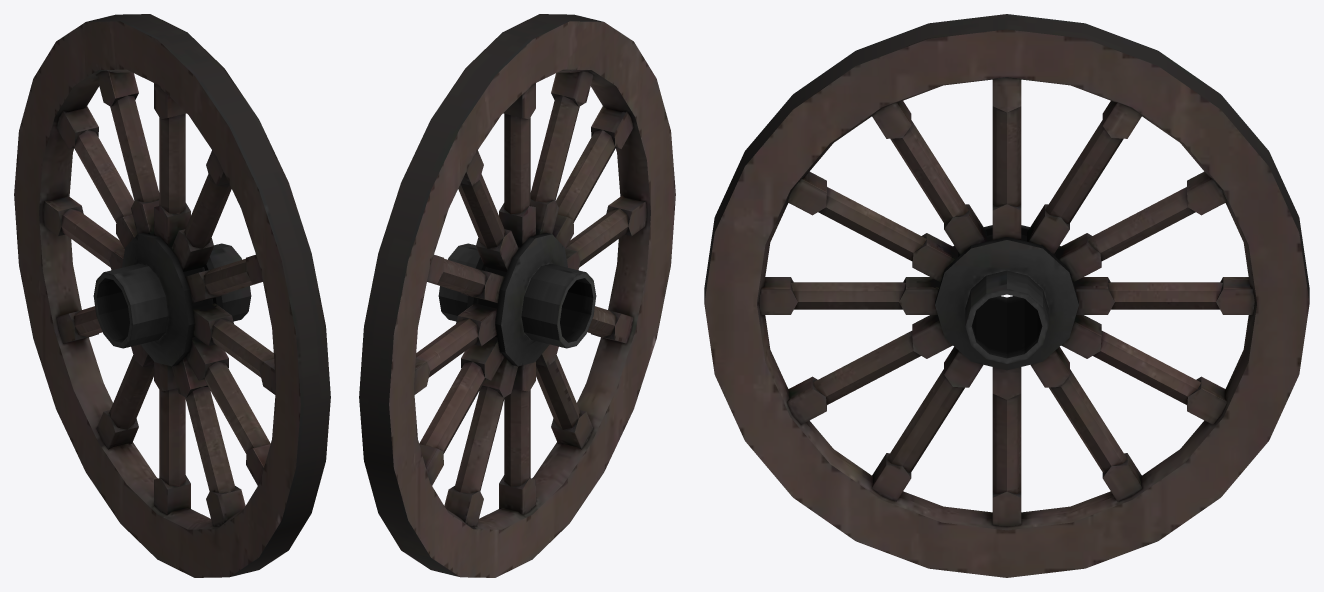
The picture shows the model from 3 angles, left to right: view 1: azimuth 30°, elevation 25°; view 2: azimuth 150°, elevation 25°; view 3: azimuth 270°, elevation 25°; orthographic projection. The views are drawn at different scales.
Parts seen in each view (by area): view 1: body0_model0_lod0_mesh0; view 2: body0_model0_lod0_mesh0; view 3: body0_model0_lod0_mesh0.
Part boxes in pixels (box(x1,y1,x2,y2)): body0_model0_lod0_mesh0: box(14, 14, 330, 577); body0_model0_lod0_mesh0: box(359, 14, 675, 577); body0_model0_lod0_mesh0: box(704, 14, 1309, 577).
Size of the model in its own units: 20 by 84 by 84.
Materials: 1 (1 with a texture image).
